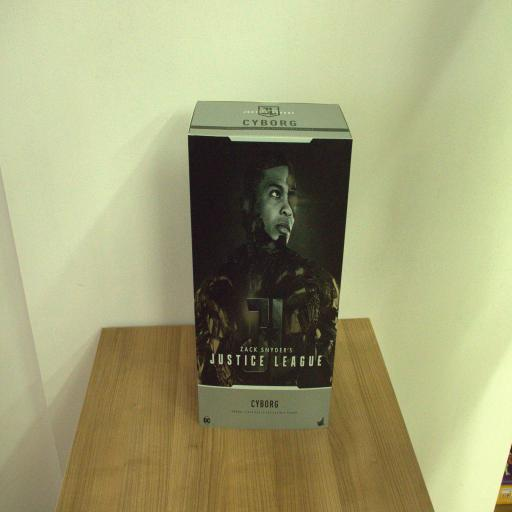Cyborg: (187, 98, 353, 430)
